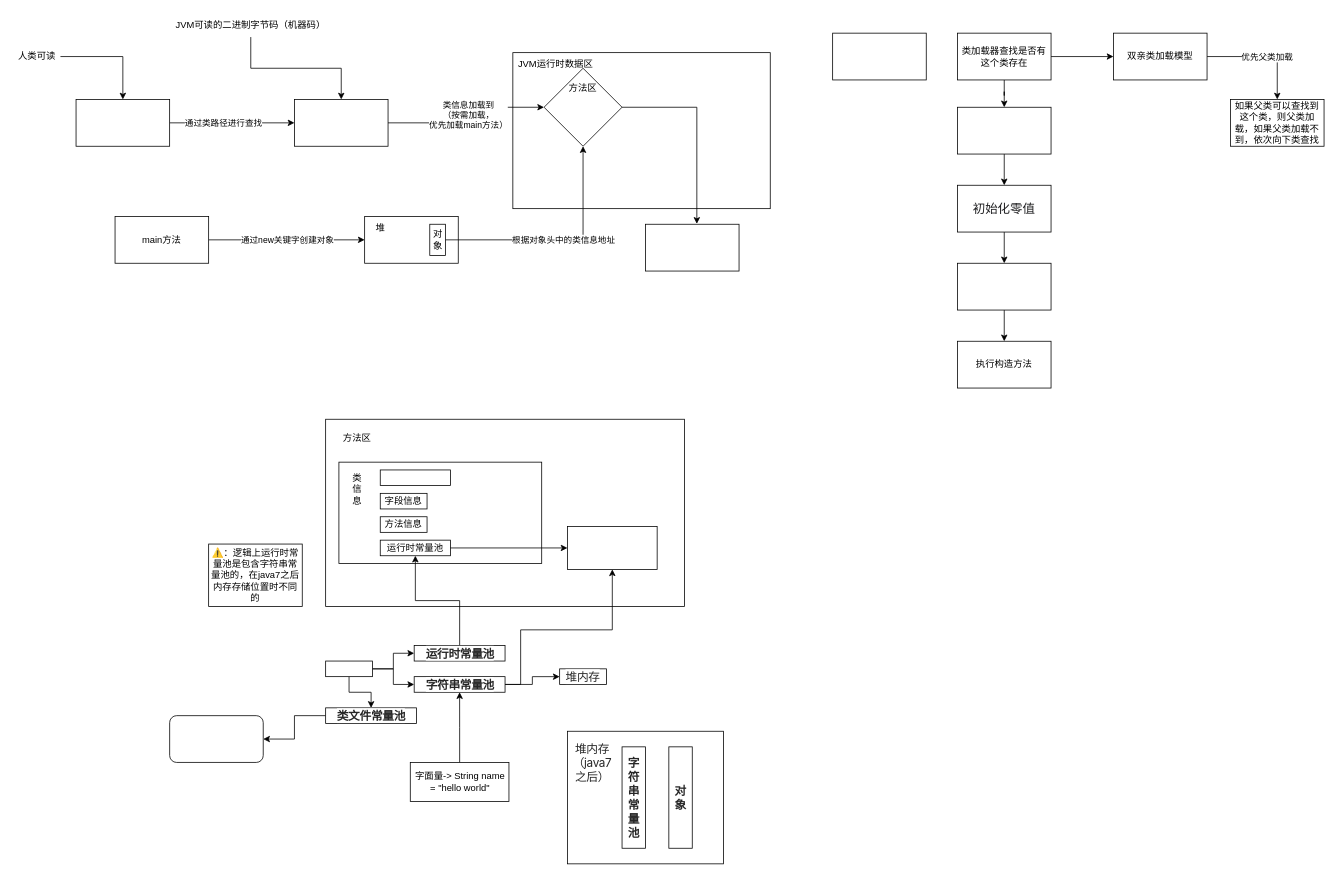
Image size: 1338x877. Some labels were removed from this diagram. Each missing label, with the centre of its shape:
application.class: the point at 341,122
application.java: the point at 122,122
getName字节码地址: the point at 692,247
分配内存: the point at 1004,130
在编译期间已经确定的常量: the point at 216,738
存储类、方法、字段等的符号引用信息: the point at 612,547
对象创建的过程: the point at 879,56
常量池: the point at 348,668
类的结构信息: the point at 414,477
设置对象头: the point at 1004,286
